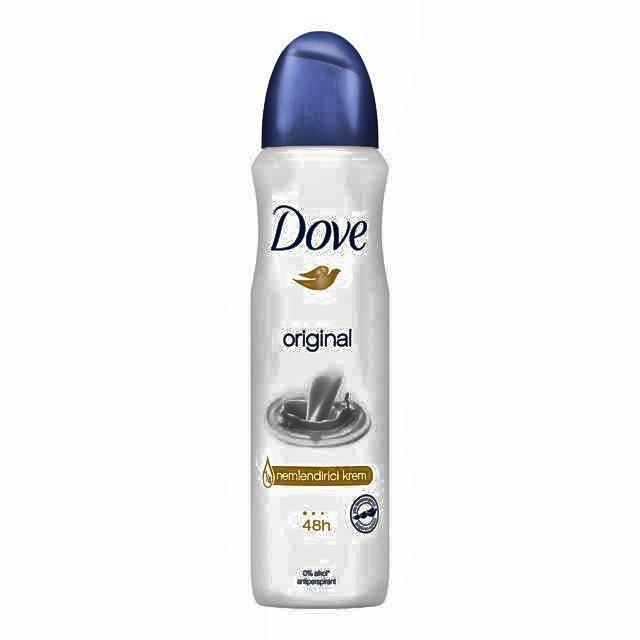metal: (248, 31, 391, 612)
